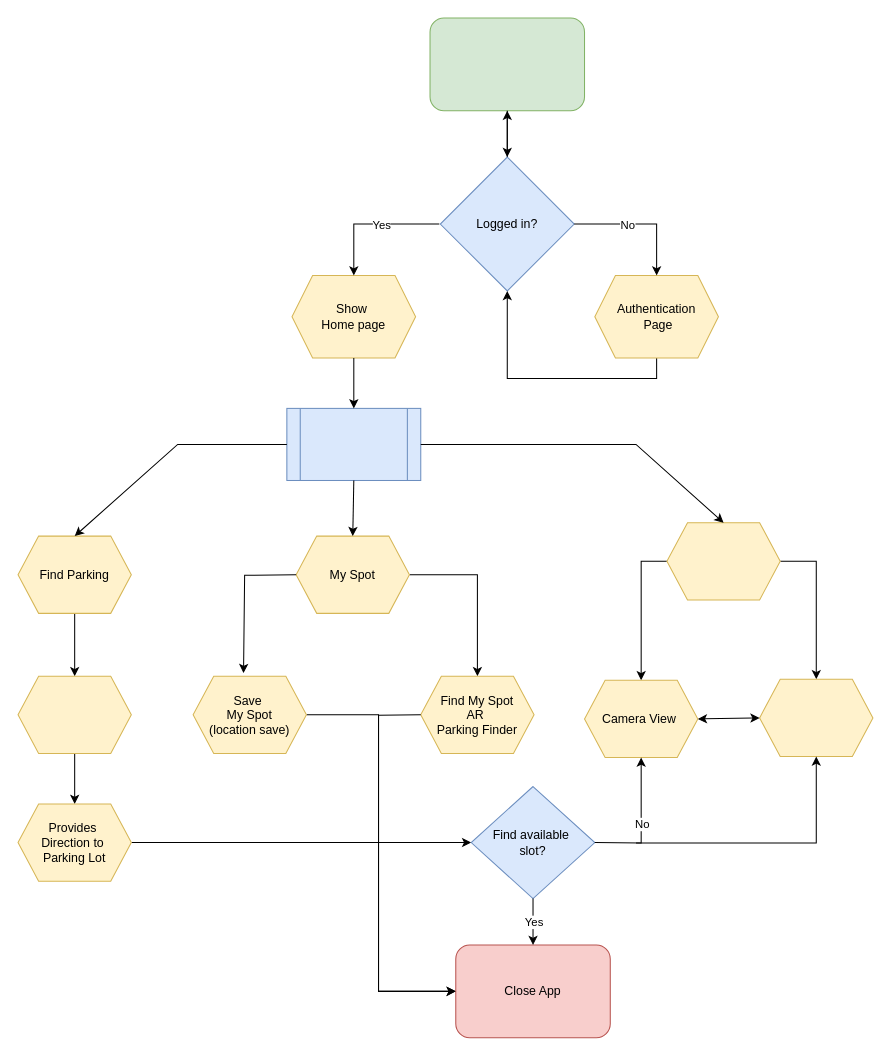
The diagram is 891 pixels wide and 1056 high, and some of its shapes have lost their labels. Here are the shapes that lost their labels. From the top down, the centre of each, then its label:
At (x=507, y=64): "Launch App".
At (x=353, y=443): "Select Feature".
At (x=723, y=561): "Live View".
At (x=74, y=714): "Shows Interactive Map".
At (x=816, y=717): "Free Slots View (green bounding box)".
